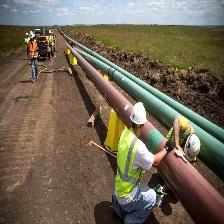Person: (113, 102, 158, 224), (27, 29, 38, 83), (48, 29, 55, 59)
helmet: (185, 134, 202, 162), (130, 100, 147, 125), (30, 29, 35, 39)
vest: (114, 132, 143, 199), (28, 39, 38, 60), (48, 35, 53, 46)
